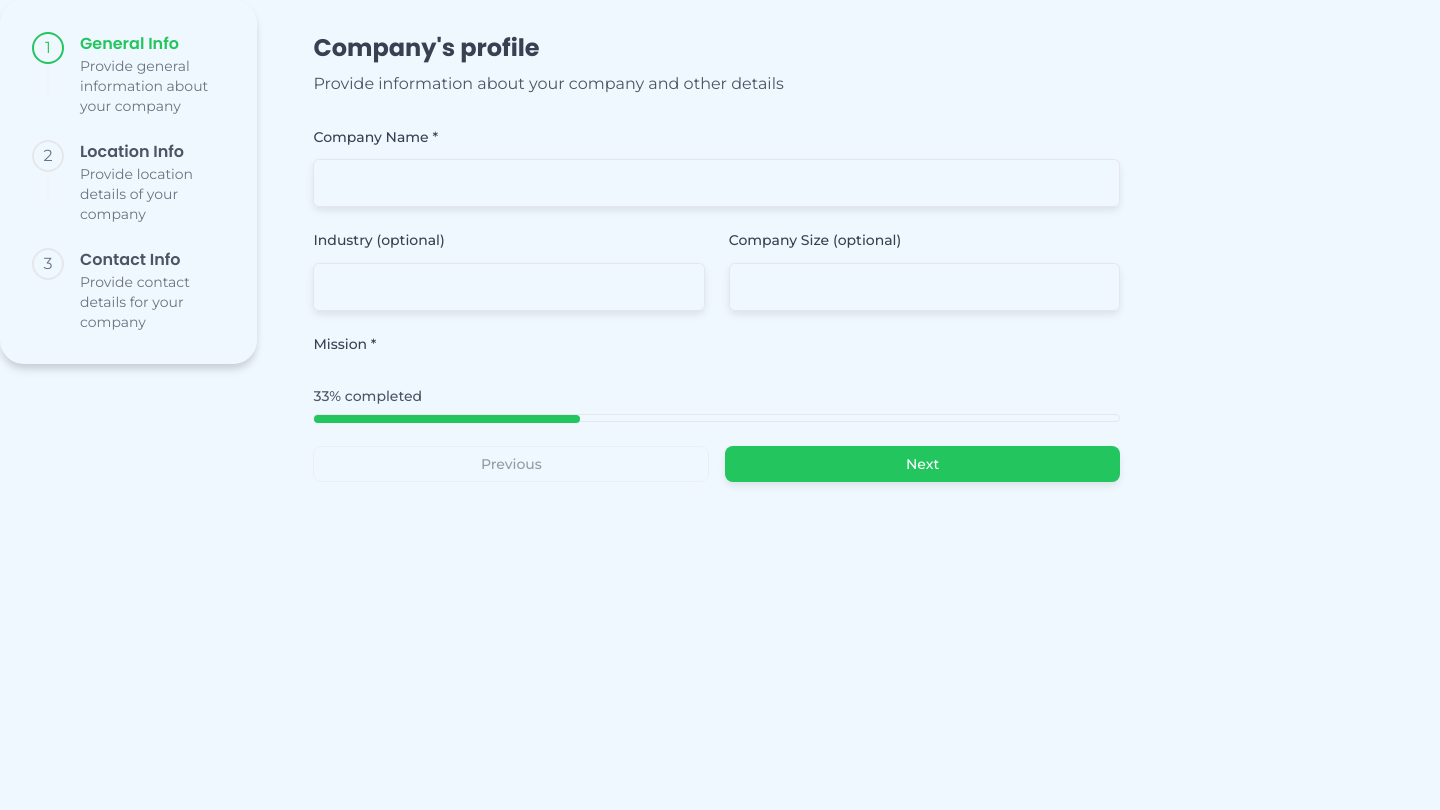
Test: CreateOrganizationWrapper › does not advance when Next is clicked with an invalid current step
The width and height of the screenshot is (1440, 810).
Click the button "Next" at (923, 464), box left=725, top=446, right=1120, bottom=482
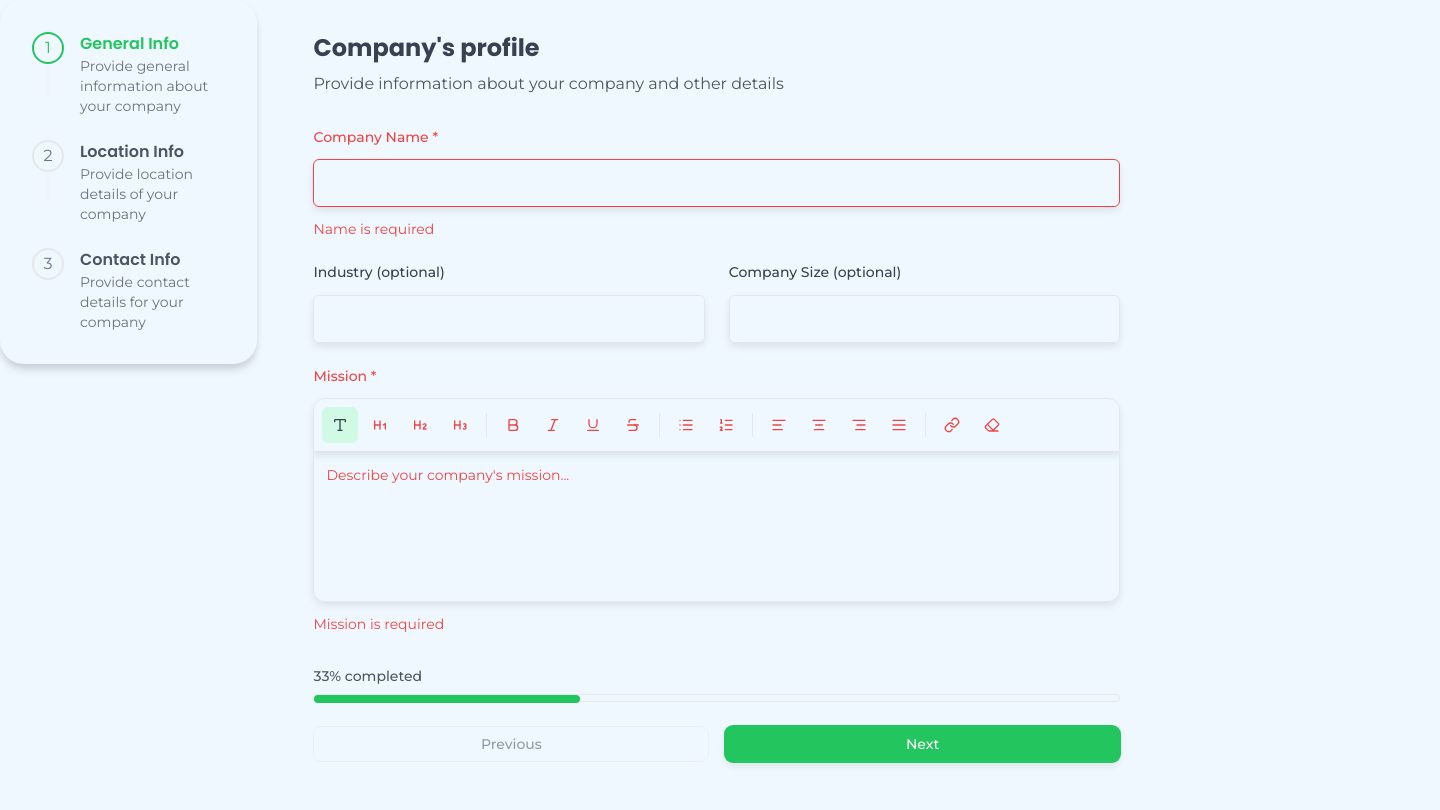
Check: the field labelled "Company Name *" is shown, box left=314, top=159, right=1120, bottom=207
Check: the text "Name is required" is shown, box left=314, top=220, right=434, bottom=238
